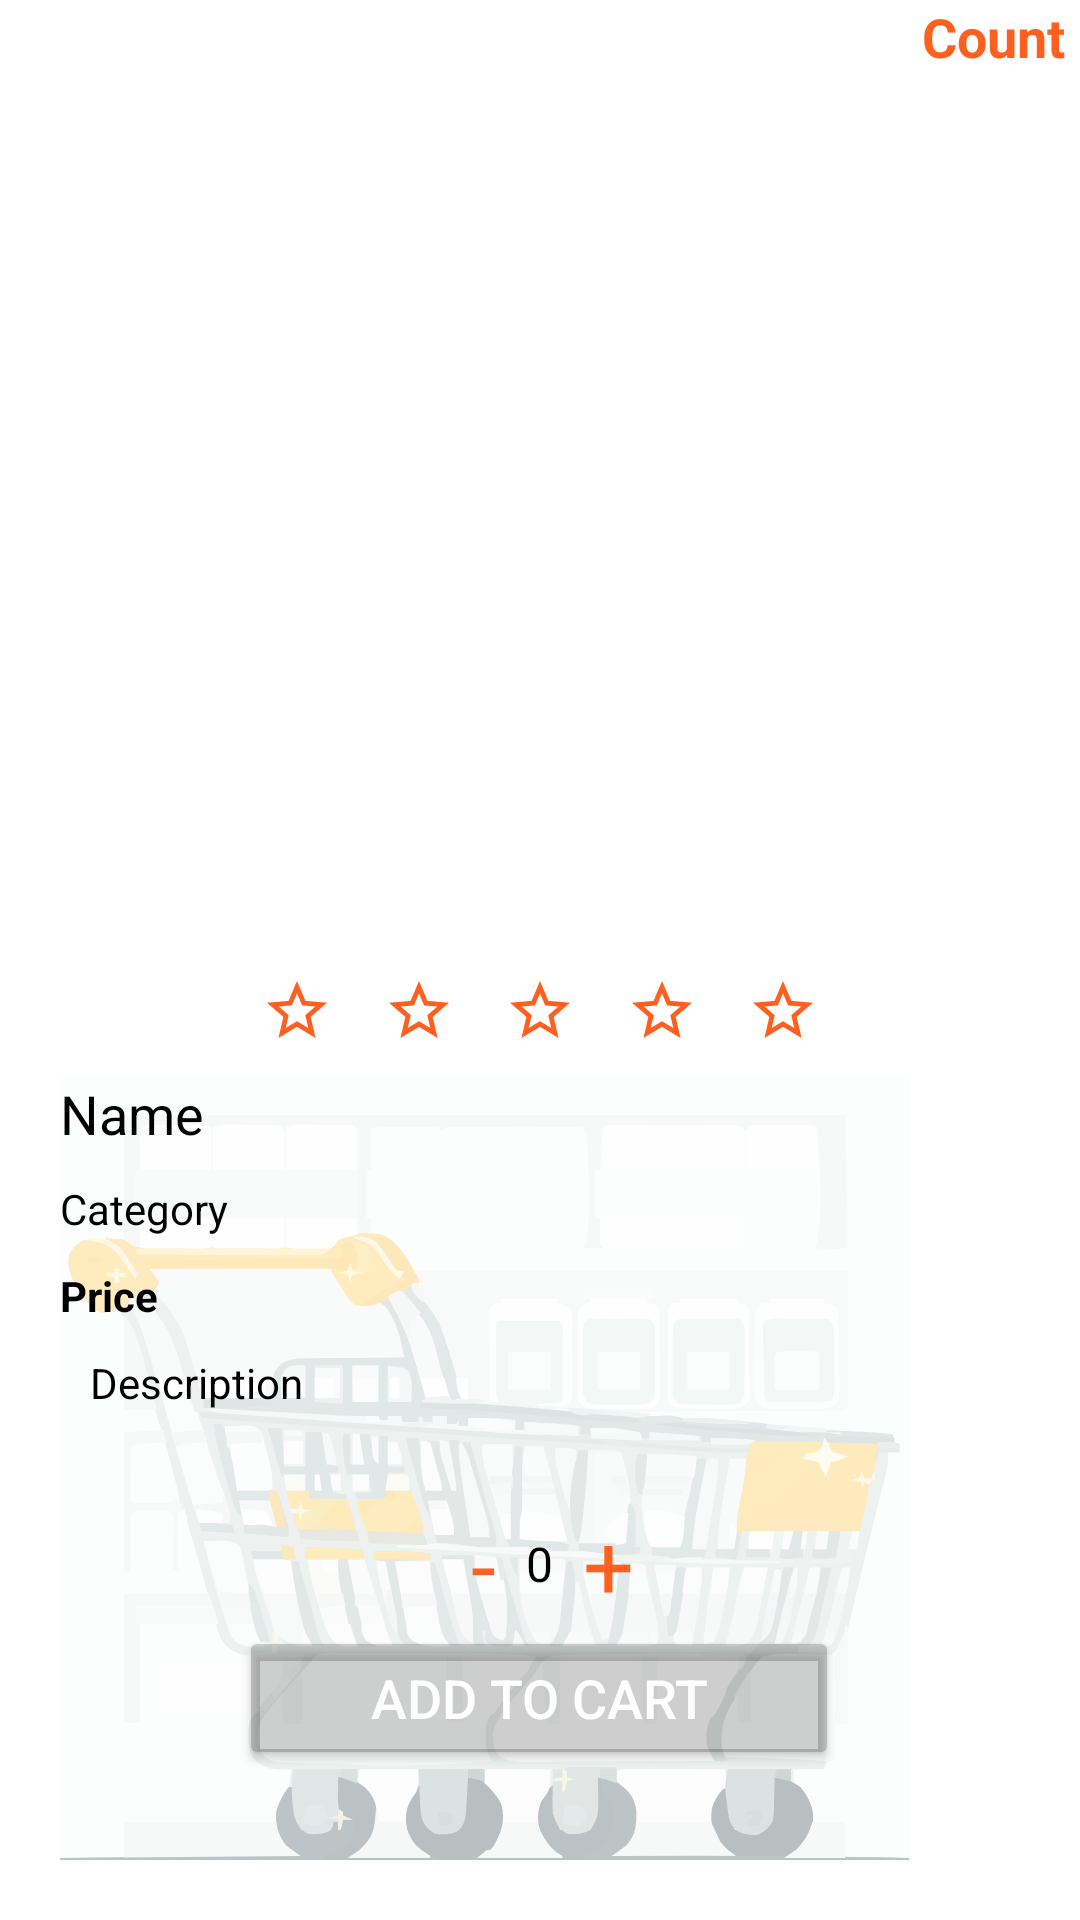

Named icons in this screenshot (1080px×1920px) and their bounding boxes, (x1, y1, x2, y2):
star: (267, 981, 327, 1038), (389, 981, 449, 1038), (510, 981, 570, 1038), (632, 981, 692, 1038), (753, 981, 813, 1038)
